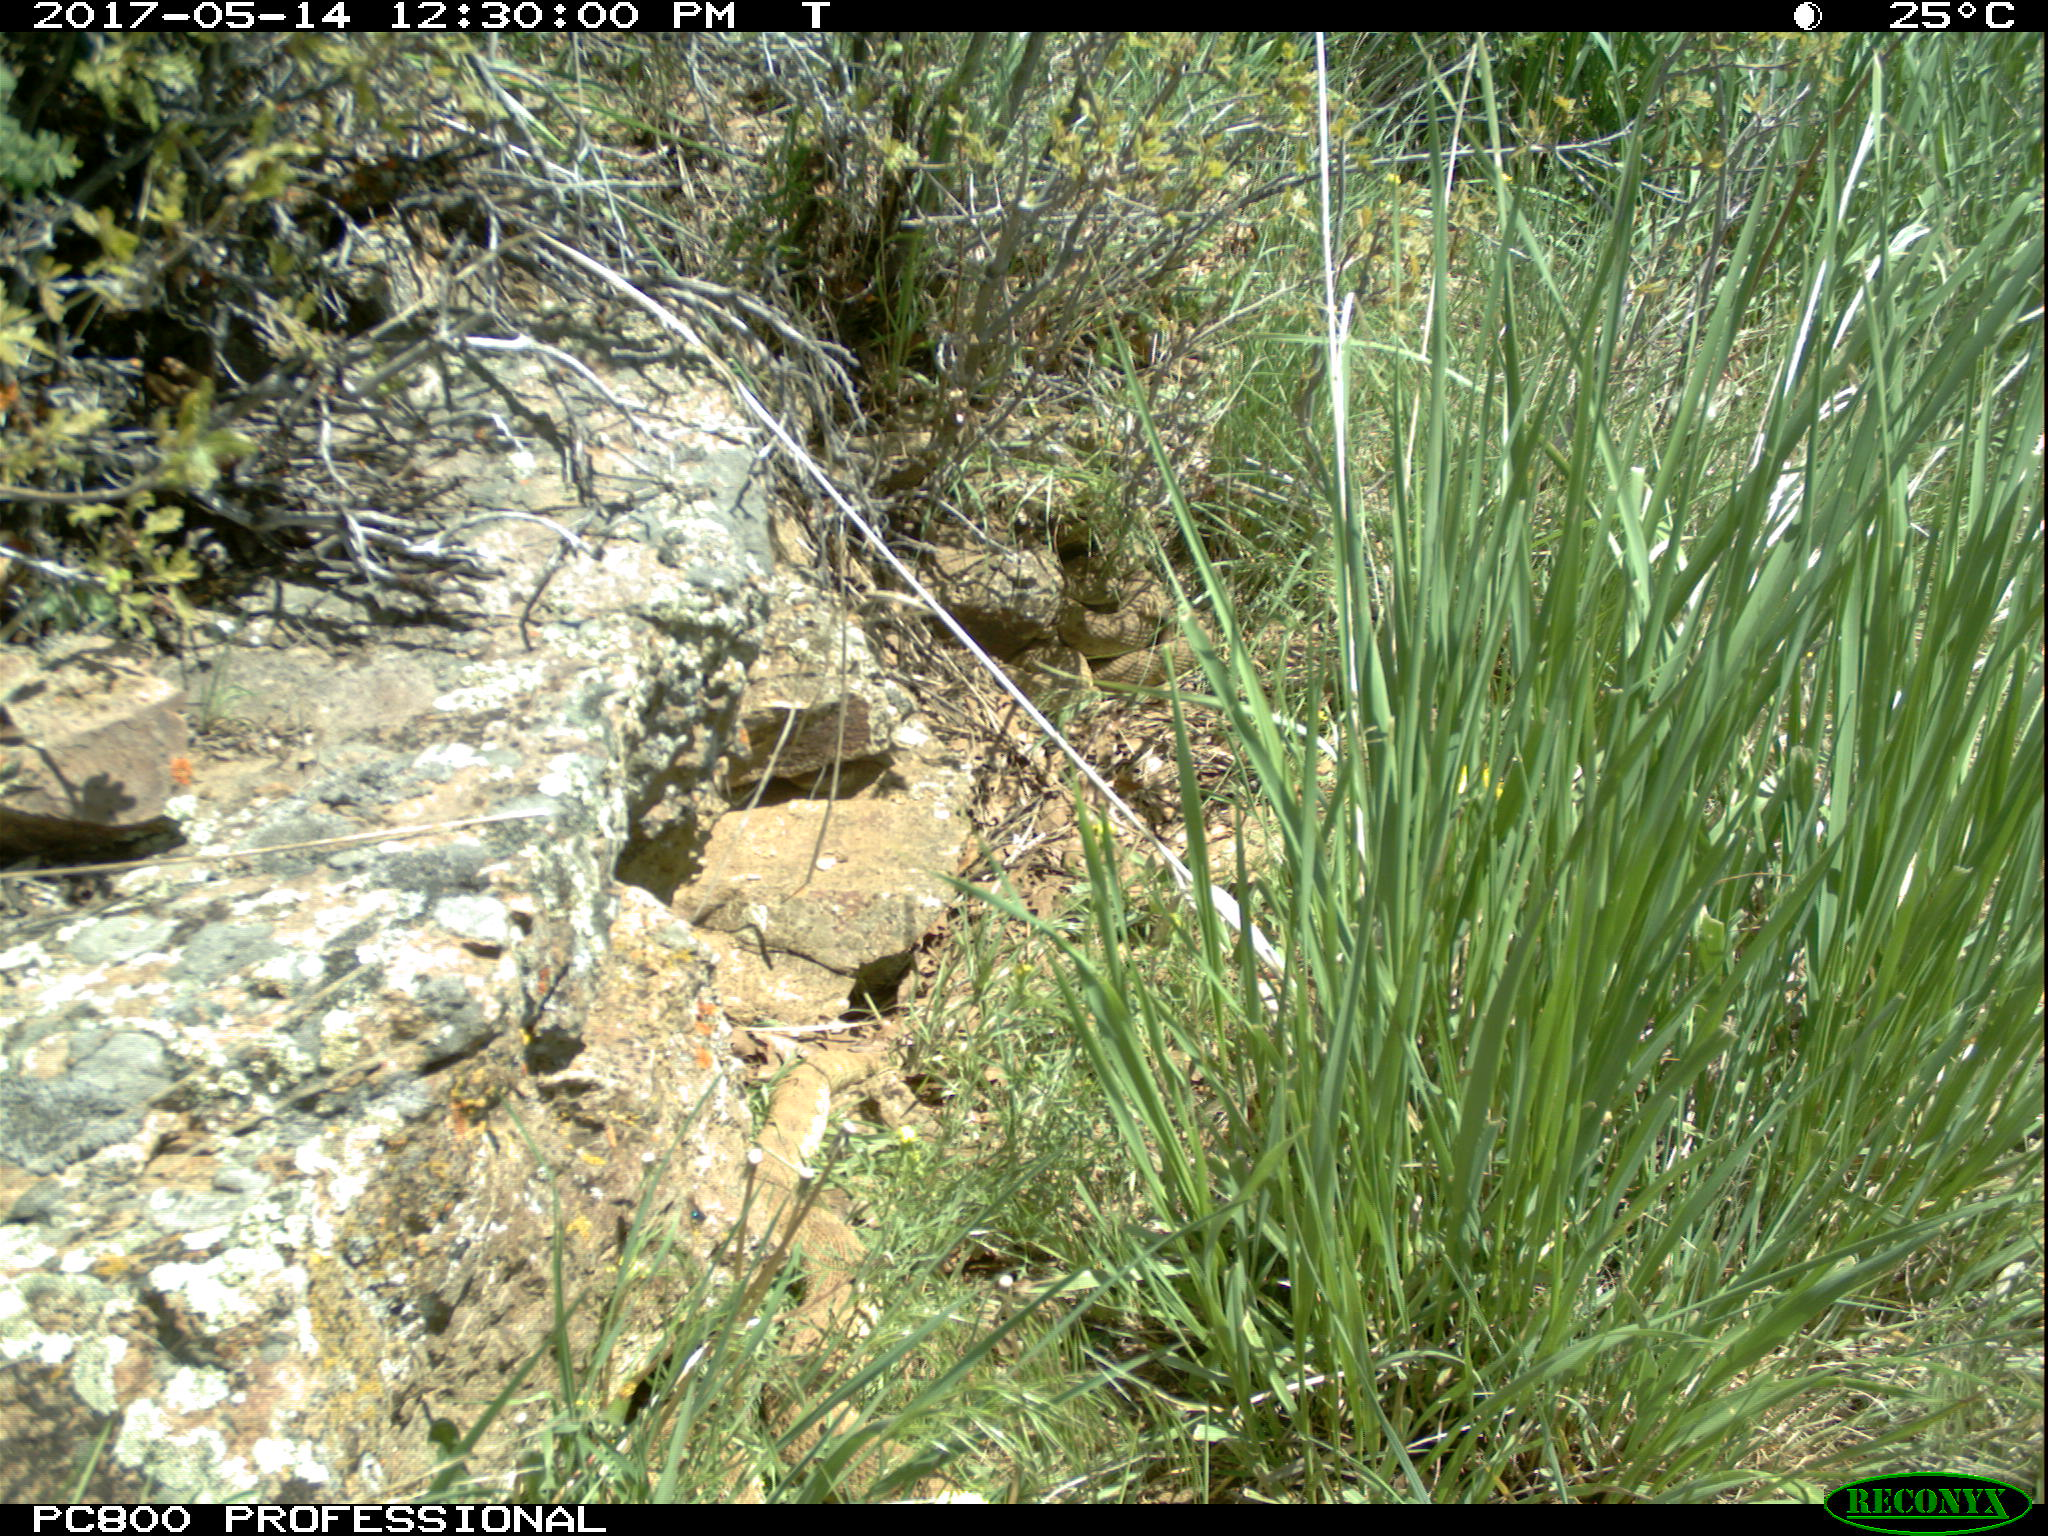snake: (743, 1029, 887, 1494), (1053, 545, 1214, 691)
